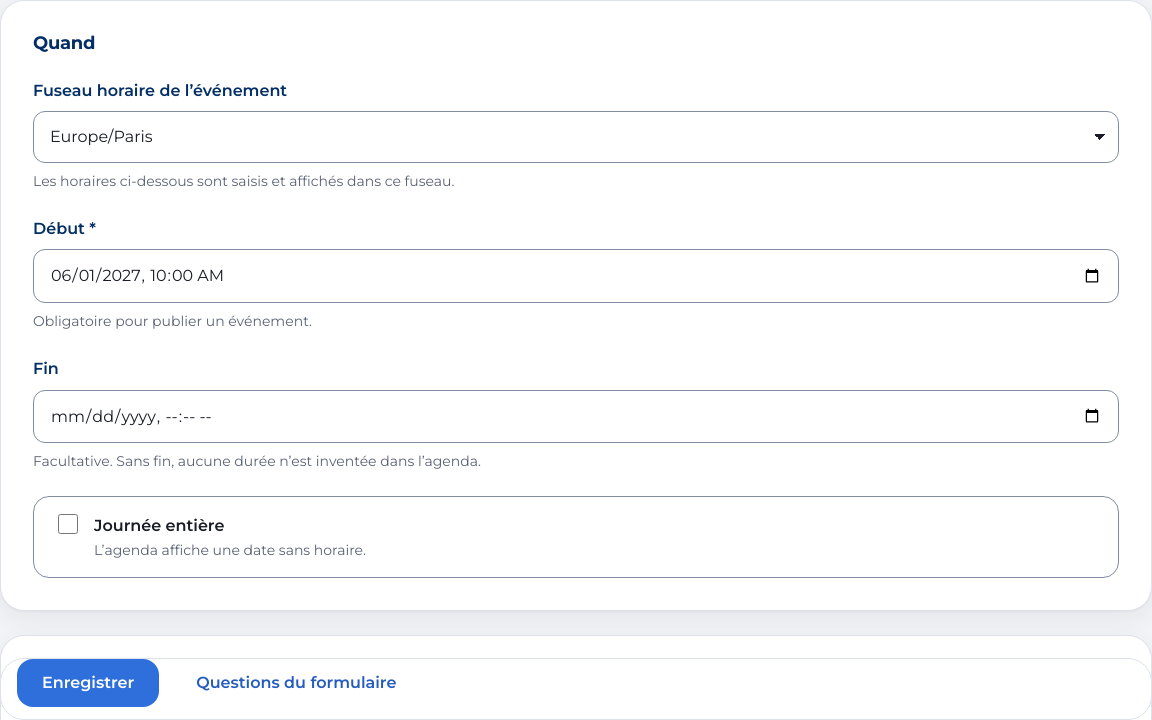
Scenario: accessibilité du panneau événement › signale une fin antérieure au début
Type "2027-05-01T09:00" into the field labelled "Fin" at point(576, 416), box [33,390,1119,443]
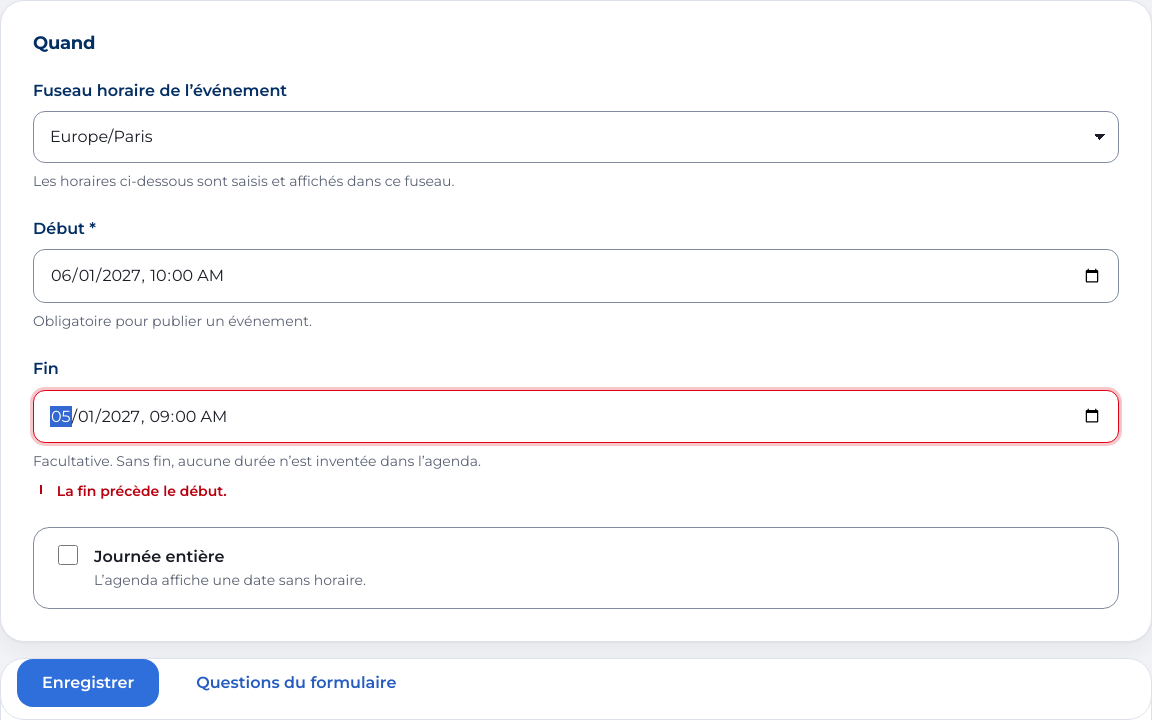
Check: the text "La fin précède le début." is shown, box [57,482,227,500]
